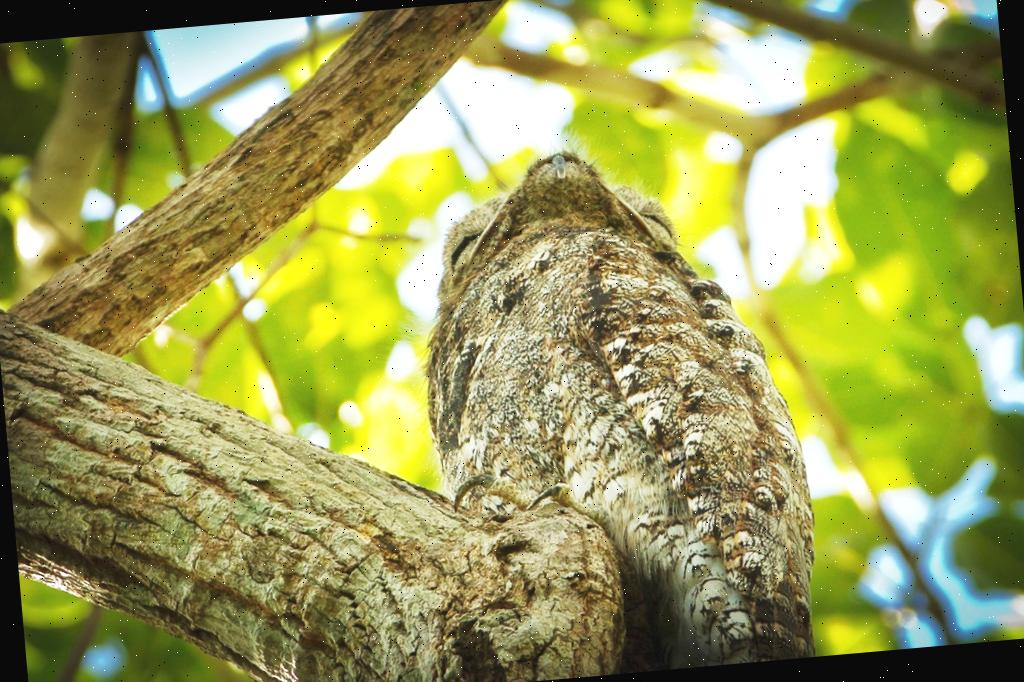Owl: (402, 126, 823, 646)
